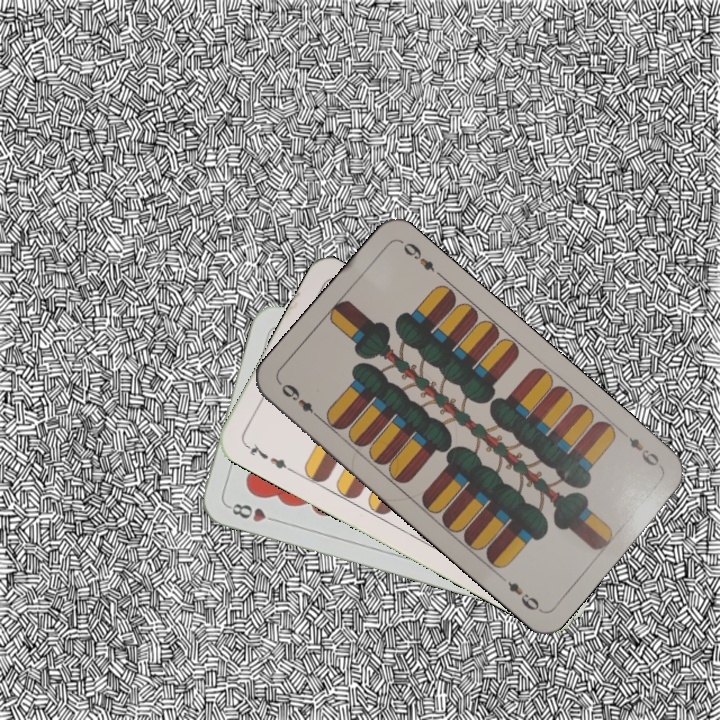E7: (240, 439, 295, 475)
E9: (277, 379, 324, 423), (624, 433, 665, 471)
H8: (224, 499, 282, 525)
